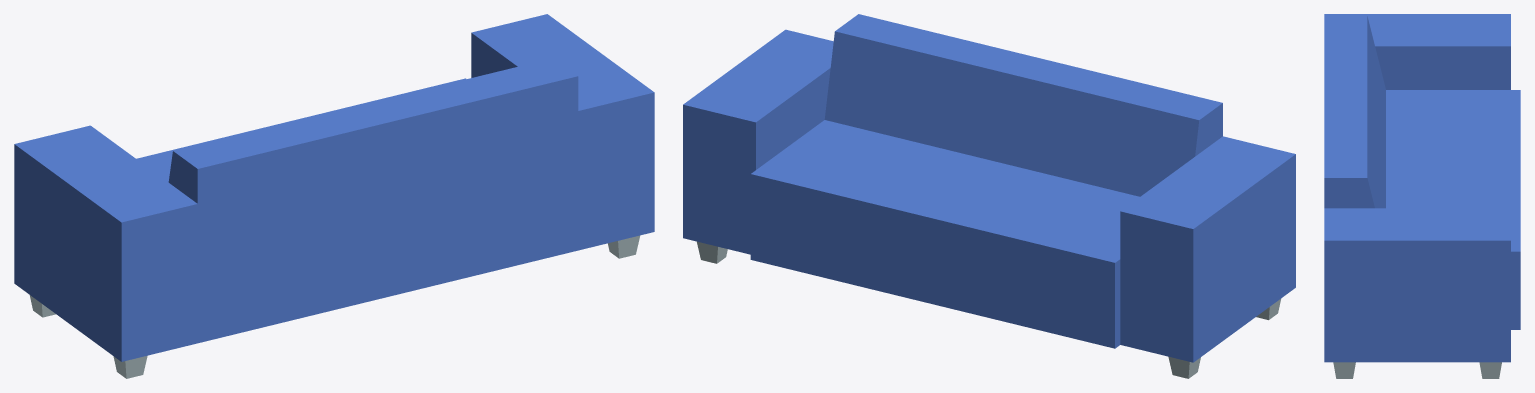
The model's file is BigSofa.glb.
3 renders of one model, left to right at view 1: azimuth 30°, elevation 25°; view 2: azimuth 150°, elevation 25°; view 3: azimuth 270°, elevation 25°, orthographic. The views are drawn at different scales.
Parts seen in each view (by area): view 1: loungeDesignSofa_1; view 2: loungeDesignSofa_1; view 3: loungeDesignSofa_1.
Boxes of the visible parts, x1=… form: loungeDesignSofa_1: x1=14, y1=14, x2=654, y2=378; loungeDesignSofa_1: x1=683, y1=14, x2=1295, y2=378; loungeDesignSofa_1: x1=1324, y1=14, x2=1520, y2=378.
Bounding box in the file's own units: 7.18 × 2.56 × 2.63.
